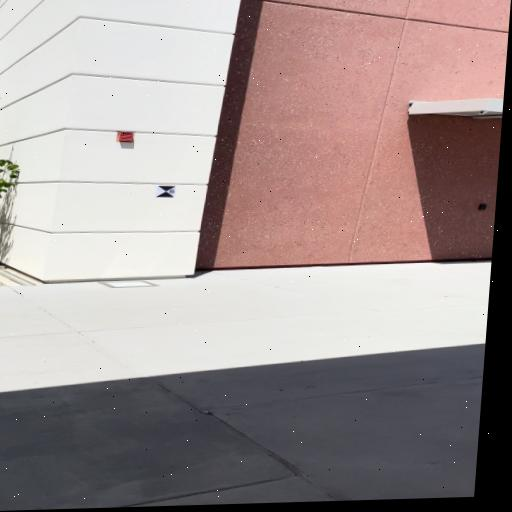target6: (156, 185, 176, 197)
